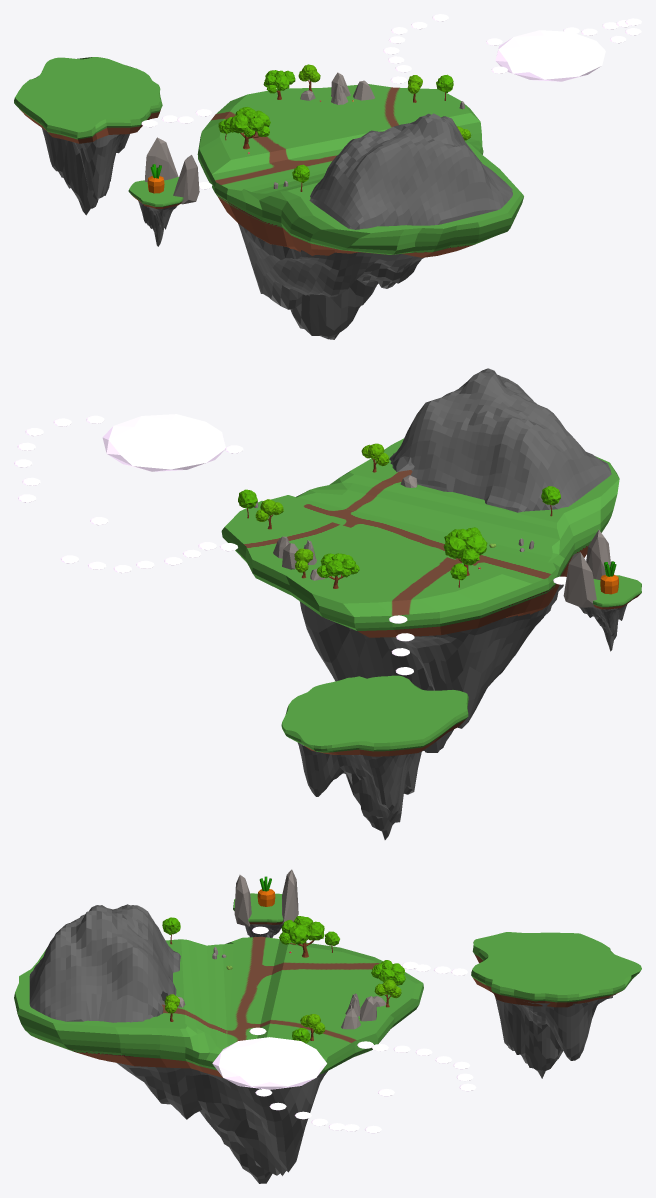
The model's file is niveau3.glb.
3 renders of one model, top to bottom at view 1: azimuth 30°, elevation 25°; view 2: azimuth 150°, elevation 25°; view 3: azimuth 270°, elevation 25°, orthographic. The views are drawn at different scales.
Parts seen in each view (by area): view 1: Landscape, Landscape.002, Cylindre.003, Icosphère, Landscape.003, Tree.006, Cylindre.002, Rock4.019, Rock4.020, Landscape.001, Tree.002; view 2: Landscape, Landscape.002, Cylindre.003, Landscape.003, Icosphère, Rock4.019, Tree.006, Cylindre.002, Tree.002, Landscape.001, Rock4.020; view 3: Landscape, Landscape.002, Cylindre.003, Landscape.003, Icosphère, Tree.006, Cylindre.002, Rock4.020, Rock4.019, Tree.002.
Boxes of the visible parts, x1,y1,x2,y2 form: Landscape: (197,84,523,339); Landscape.002: (309,113,512,229); Cylindre.003: (14,57,162,143); Icosphère: (495,30,605,81); Landscape.003: (42,128,129,215); Tree.006: (224,107,270,149); Cylindre.002: (128,177,183,208); Rock4.019: (145,137,178,181); Rock4.020: (173,155,199,204); Landscape.001: (138,200,176,246); Tree.002: (263,70,295,99); Landscape: (221,438,619,752); Landscape.002: (389,368,611,512); Cylindre.003: (281,675,468,756); Landscape.003: (297,742,421,839); Icosphère: (102,414,225,471); Rock4.019: (563,552,596,607); Tree.006: (443,527,487,575); Cylindre.002: (593,575,641,609); Tree.002: (316,553,359,588); Landscape.001: (579,604,627,651); Rock4.020: (586,529,610,580); Landscape: (14,936,423,1183); Landscape.002: (29,904,180,1022); Cylindre.003: (471,932,641,1007); Landscape.003: (495,994,615,1078); Icosphère: (212,1037,326,1089); Tree.006: (279,916,324,957); Cylindre.002: (233,893,283,924); Rock4.020: (234,875,251,926); Rock4.019: (282,869,298,924); Tree.002: (371,960,405,985).
Size of the model in its own units: 411 by 208 by 418.
16 materials, 1 textured.
